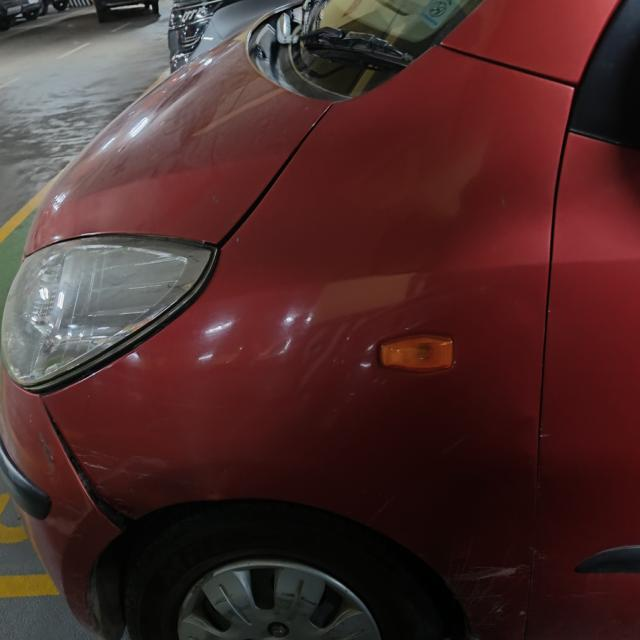scratch: (29, 429, 155, 494)
